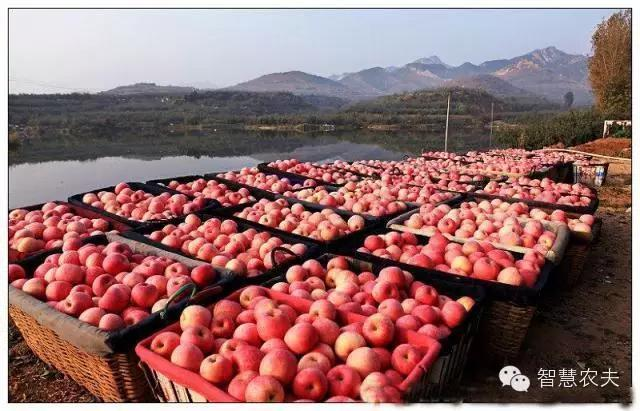apple: (257, 350, 298, 381), (326, 364, 361, 400), (283, 322, 320, 353), (256, 308, 291, 340), (244, 377, 285, 404), (200, 353, 233, 386), (293, 369, 326, 399), (363, 312, 393, 344), (333, 331, 365, 360), (178, 305, 212, 332), (390, 344, 421, 373), (179, 326, 214, 350), (149, 332, 180, 358), (297, 352, 331, 372), (63, 293, 91, 316), (130, 282, 158, 305), (239, 286, 269, 307), (310, 299, 336, 323), (372, 281, 400, 303), (473, 256, 499, 279), (217, 339, 248, 358), (102, 253, 131, 273), (208, 316, 234, 338), (91, 273, 115, 296), (121, 310, 150, 326), (284, 265, 309, 283), (414, 285, 437, 304), (164, 263, 187, 278), (324, 268, 342, 287), (345, 214, 364, 231), (139, 259, 158, 275), (258, 214, 276, 226)
